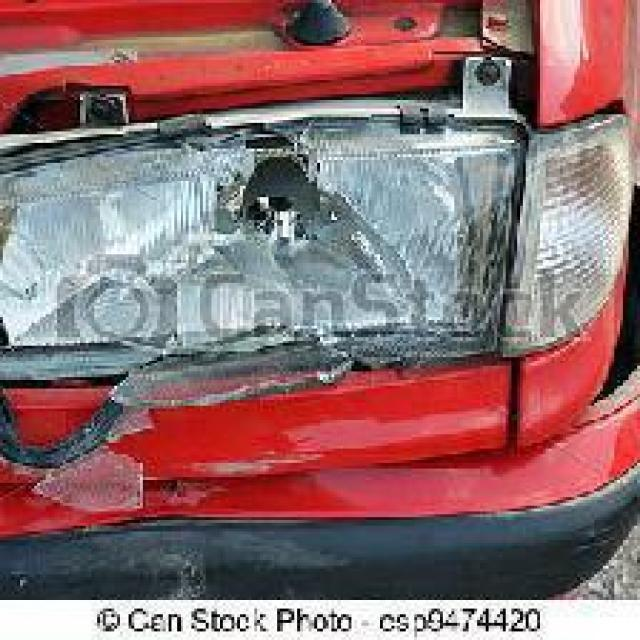damaged: (8, 3, 523, 523)
